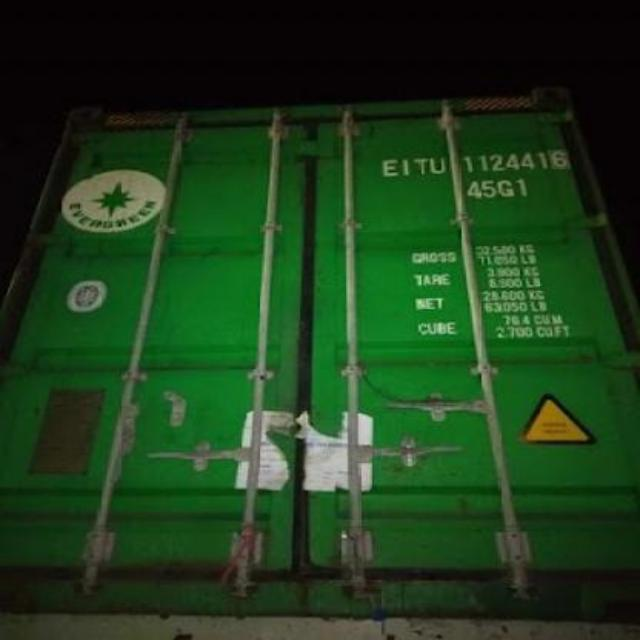1: (536, 148, 552, 172), (474, 153, 492, 171), (464, 152, 476, 174)
2: (490, 152, 508, 174)
4: (520, 151, 538, 169), (506, 152, 522, 170)
6: (550, 148, 568, 170)
E: (378, 157, 402, 177)
I: (400, 158, 412, 178)
T: (412, 156, 430, 177)
U: (428, 154, 446, 178)
